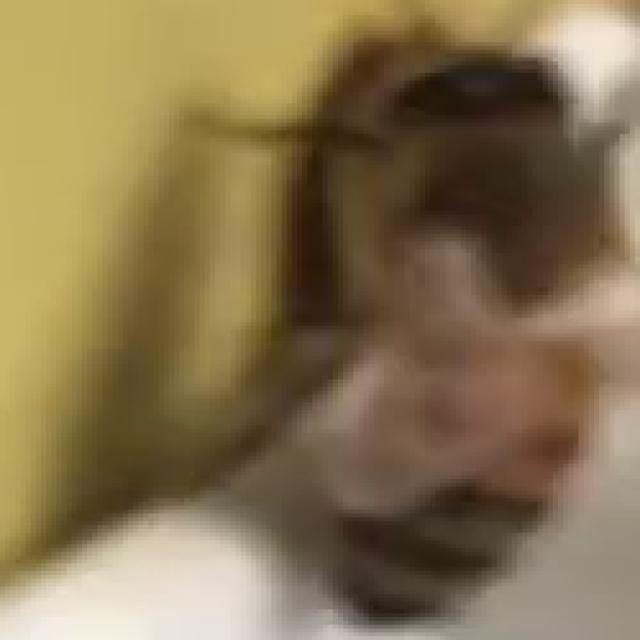honeybee: (82, 44, 622, 602)
